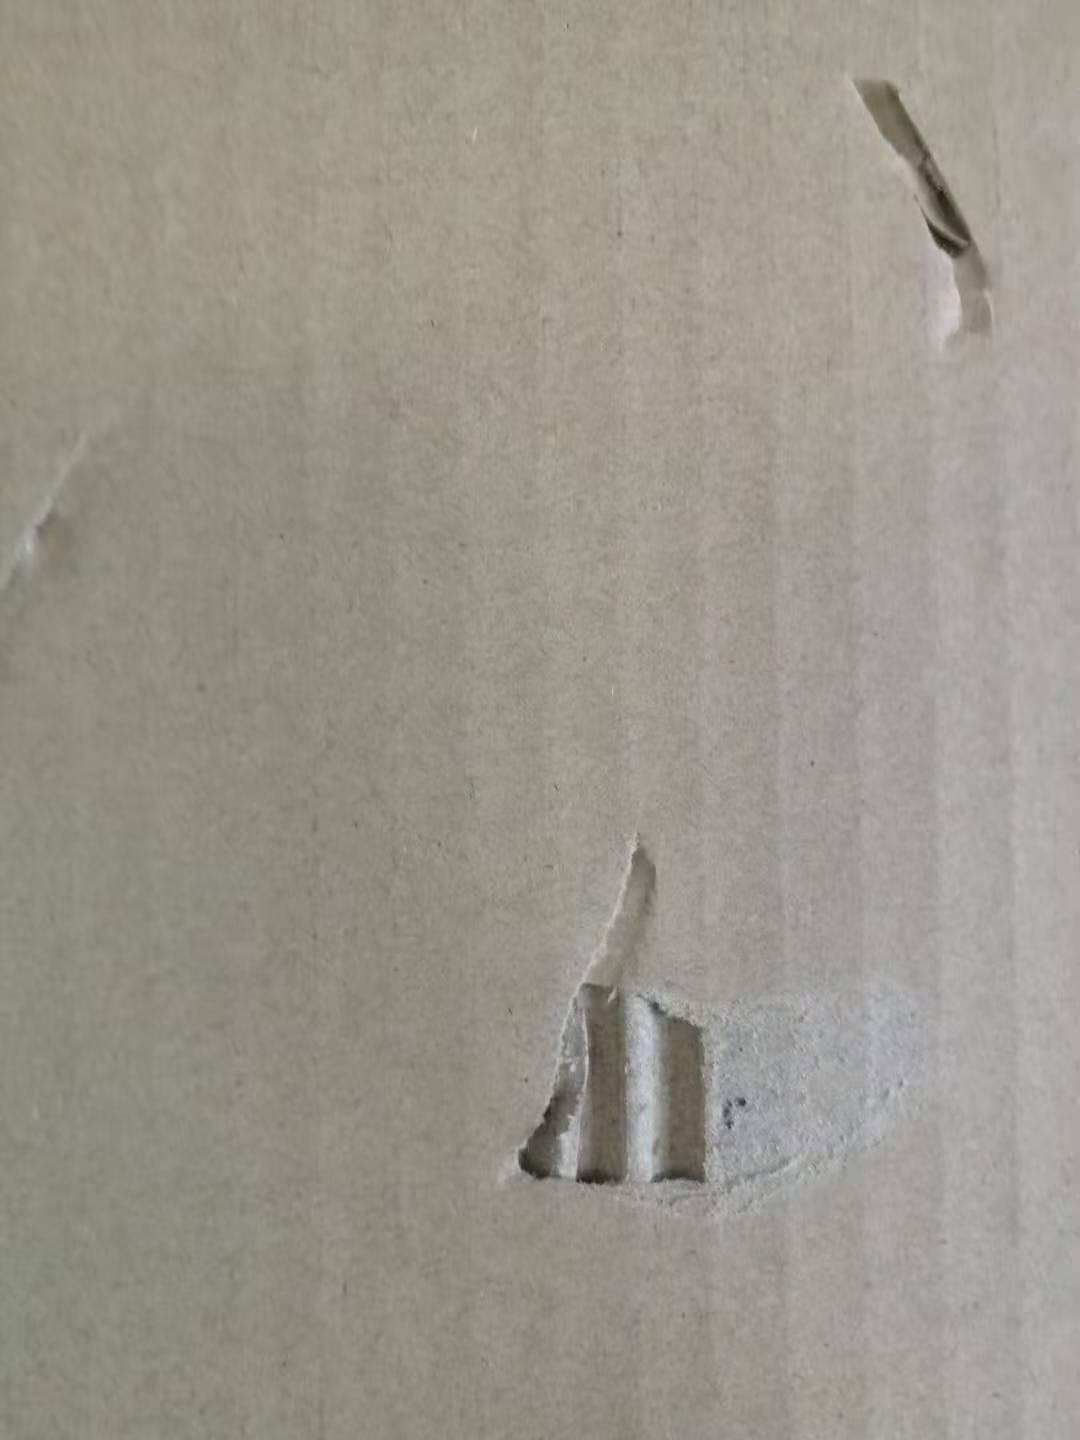defect: (442, 807, 982, 1250), (803, 35, 1043, 379), (3, 382, 145, 639)
